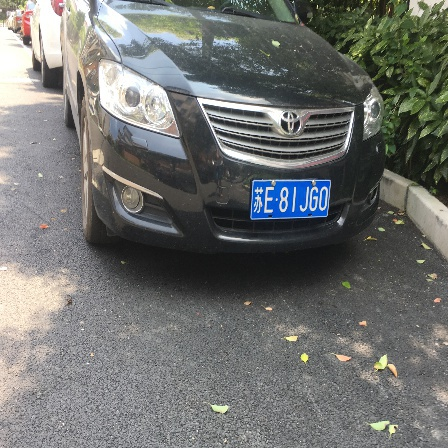plate: (252, 178, 334, 225)
